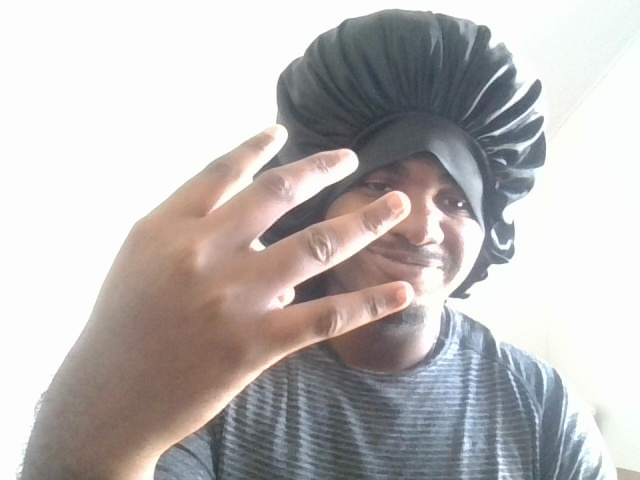I am Better Than Yu: (56, 115, 420, 425)
